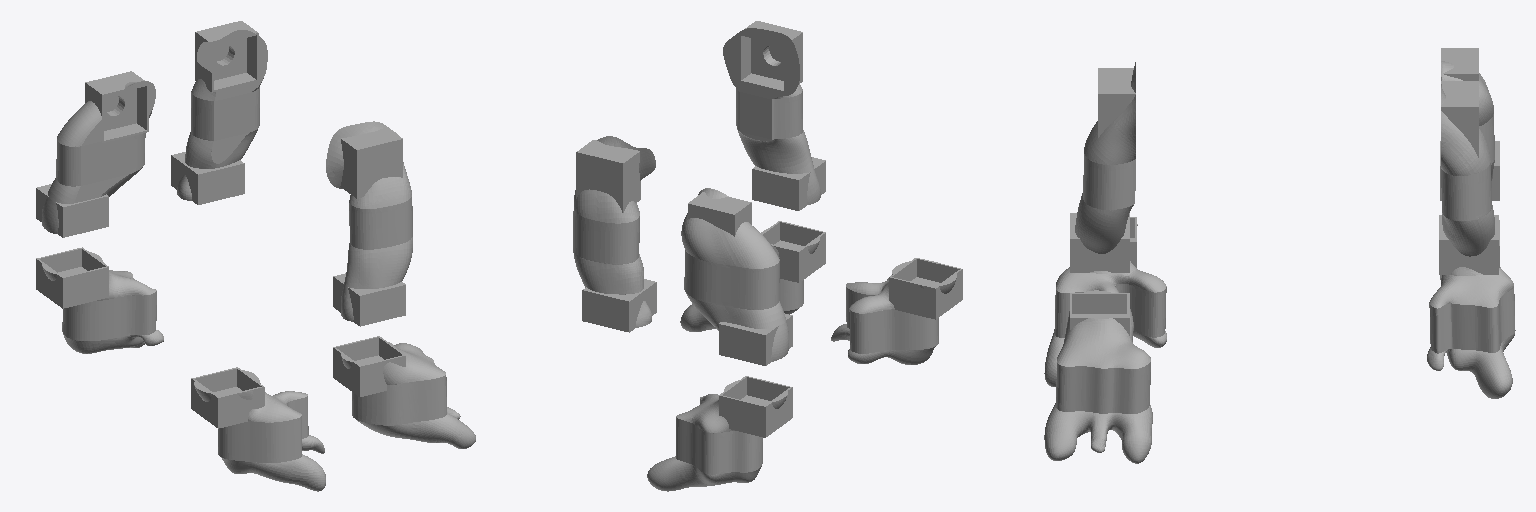
robot.urdf — FrogBot4_top-FrogBot4-z-8_bottom-FrogBot4-z-8:
<?xml version="1.0" ?>
<robot name="FrogBot4_top-FrogBot4-z-8_bottom-FrogBot4-z-8">

<material name="pla_5_percent_infill">
  <color rgba="0.700 0.700 0.700 1.000"/>
</material>

<link name="base_link">
  <inertial>
    <origin xyz="0 0 0" rpy="0 0 0"/>
    <mass value="1.4608203761339813"/>
    <inertia ixx="0.00496034401110324" iyy="0.010259632804669863" izz="0.010457868746855814" ixy="4.519338143051983e-05" iyz="5.808312742508133e-05" ixz="-0.001193761897574285"/>
  </inertial>
  <visual>
    <origin xyz="0 0 0" rpy="0 0 0"/>
    <geometry>
      <mesh filename="simple_meshes/base_link.stl" scale="0.001 0.001 0.001"/>
    </geometry>
    <material name="pla_5_percent_infill"/>
  </visual>
  <collision>
    <origin xyz="0 0 0" rpy="0 0 0"/>
    <geometry>
      <mesh filename="simple_meshes/base_link.stl" scale="0.001 0.001 0.001"/>
    </geometry>
  </collision>
</link>

<link name="body_1_0_1">
  <inertial>
    <origin xyz="-0.039935 -0.102508 -0.020563" rpy="0 0 0"/>
    <mass value="0.09222472070648204"/>
    <inertia ixx="0.00013437797535308322" iyy="0.0001514546771507831" izz="4.015762362987981e-05" ixy="1.046735819692818e-06" iyz="3.205570806482478e-06" ixz="-1.7004805851033827e-05"/>
  </inertial>
  <visual>
    <origin xyz="-0.039935 -0.102508 -0.020563" rpy="0 0 0"/>
    <geometry>
      <mesh filename="simple_meshes/body_1_0_1.stl" scale="0.001 0.001 0.001"/>
    </geometry>
    <material name="pla_5_percent_infill"/>
  </visual>
  <collision>
    <origin xyz="-0.039935 -0.102508 -0.020563" rpy="0 0 0"/>
    <geometry>
      <mesh filename="simple_meshes/body_1_0_1.stl" scale="0.001 0.001 0.001"/>
    </geometry>
  </collision>
</link>

<link name="body_1_1_1">
  <inertial>
    <origin xyz="0.084829 -0.102508 0.010182" rpy="0 0 0"/>
    <mass value="0.10897386600307592"/>
    <inertia ixx="0.0001108126226495405" iyy="0.00016453709370254743" izz="8.127708091953999e-05" ixy="-2.2585087915249612e-06" iyz="1.7464585093023097e-06" ixz="-3.0213331873257354e-05"/>
  </inertial>
  <visual>
    <origin xyz="0.084829 -0.102508 0.010182" rpy="0 0 0"/>
    <geometry>
      <mesh filename="simple_meshes/body_1_1_1.stl" scale="0.001 0.001 0.001"/>
    </geometry>
    <material name="pla_5_percent_infill"/>
  </visual>
  <collision>
    <origin xyz="0.084829 -0.102508 0.010182" rpy="0 0 0"/>
    <geometry>
      <mesh filename="simple_meshes/body_1_1_1.stl" scale="0.001 0.001 0.001"/>
    </geometry>
  </collision>
</link>

<link name="body_1_2_1">
  <inertial>
    <origin xyz="-0.032973 0.102508 -0.03352" rpy="0 0 0"/>
    <mass value="0.09830592588097135"/>
    <inertia ixx="0.00016376439125174438" iyy="0.00017916333632821187" izz="4.332398370064314e-05" ixy="-2.7387617692078937e-06" iyz="-1.4180528586924695e-05" ixz="-1.4380432514463678e-05"/>
  </inertial>
  <visual>
    <origin xyz="-0.032973 0.102508 -0.03352" rpy="0 0 0"/>
    <geometry>
      <mesh filename="simple_meshes/body_1_2_1.stl" scale="0.001 0.001 0.001"/>
    </geometry>
    <material name="pla_5_percent_infill"/>
  </visual>
  <collision>
    <origin xyz="-0.032973 0.102508 -0.03352" rpy="0 0 0"/>
    <geometry>
      <mesh filename="simple_meshes/body_1_2_1.stl" scale="0.001 0.001 0.001"/>
    </geometry>
  </collision>
</link>

<link name="body_1_3_1">
  <inertial>
    <origin xyz="0.075405 0.102508 -0.000907" rpy="0 0 0"/>
    <mass value="0.1153703493044613"/>
    <inertia ixx="0.0001214440313519684" iyy="0.00017627693288045708" izz="8.488718449974108e-05" ixy="9.672855059376234e-08" iyz="-1.8152384502487587e-06" ixz="-2.981738177163434e-05"/>
  </inertial>
  <visual>
    <origin xyz="0.075405 0.102508 -0.000907" rpy="0 0 0"/>
    <geometry>
      <mesh filename="simple_meshes/body_1_3_1.stl" scale="0.001 0.001 0.001"/>
    </geometry>
    <material name="pla_5_percent_infill"/>
  </visual>
  <collision>
    <origin xyz="0.075405 0.102508 -0.000907" rpy="0 0 0"/>
    <geometry>
      <mesh filename="simple_meshes/body_1_3_1.stl" scale="0.001 0.001 0.001"/>
    </geometry>
  </collision>
</link>

<link name="body_2_0_1">
  <inertial>
    <origin xyz="-0.025656 -0.145015 0.125436" rpy="0 0 0"/>
    <mass value="0.12455806429224664"/>
    <inertia ixx="0.00011162442957231289" iyy="0.00013380258809923308" izz="0.00012113228680450975" ixy="-1.8107543383748433e-07" iyz="1.128160045648155e-06" ixz="2.7343863581341188e-05"/>
  </inertial>
  <visual>
    <origin xyz="-0.025656 -0.145015 0.125436" rpy="0 0 0"/>
    <geometry>
      <mesh filename="simple_meshes/body_2_0_1.stl" scale="0.001 0.001 0.001"/>
    </geometry>
    <material name="pla_5_percent_infill"/>
  </visual>
  <collision>
    <origin xyz="-0.025656 -0.145015 0.125436" rpy="0 0 0"/>
    <geometry>
      <mesh filename="simple_meshes/body_2_0_1.stl" scale="0.001 0.001 0.001"/>
    </geometry>
  </collision>
</link>

<link name="body_2_1_1">
  <inertial>
    <origin xyz="0.114857 -0.145661 0.125438" rpy="0 0 0"/>
    <mass value="0.10601789197670694"/>
    <inertia ixx="8.435426068640565e-05" iyy="0.00011976583280184049" izz="8.58747946772113e-05" ixy="-2.881754624832174e-06" iyz="6.42635433037702e-06" ixz="2.792656892598006e-05"/>
  </inertial>
  <visual>
    <origin xyz="0.114857 -0.145661 0.125438" rpy="0 0 0"/>
    <geometry>
      <mesh filename="simple_meshes/body_2_1_1.stl" scale="0.001 0.001 0.001"/>
    </geometry>
    <material name="pla_5_percent_infill"/>
  </visual>
  <collision>
    <origin xyz="0.114857 -0.145661 0.125438" rpy="0 0 0"/>
    <geometry>
      <mesh filename="simple_meshes/body_2_1_1.stl" scale="0.001 0.001 0.001"/>
    </geometry>
  </collision>
</link>

<link name="body_2_2_1">
  <inertial>
    <origin xyz="-0.022601 0.152053 0.125436" rpy="0 0 0"/>
    <mass value="0.13449067238146464"/>
    <inertia ixx="0.00011995097694139818" iyy="0.00014793537286324036" izz="0.0001304464901445237" ixy="-3.890479524919438e-06" iyz="-9.763223322882195e-07" ixz="3.0559322923909065e-05"/>
  </inertial>
  <visual>
    <origin xyz="-0.022601 0.152053 0.125436" rpy="0 0 0"/>
    <geometry>
      <mesh filename="simple_meshes/body_2_2_1.stl" scale="0.001 0.001 0.001"/>
    </geometry>
    <material name="pla_5_percent_infill"/>
  </visual>
  <collision>
    <origin xyz="-0.022601 0.152053 0.125436" rpy="0 0 0"/>
    <geometry>
      <mesh filename="simple_meshes/body_2_2_1.stl" scale="0.001 0.001 0.001"/>
    </geometry>
  </collision>
</link>

<link name="body_2_3_1">
  <inertial>
    <origin xyz="0.12145 0.146005 0.125436" rpy="0 0 0"/>
    <mass value="0.11207993545725627"/>
    <inertia ixx="0.00010280922282573934" iyy="0.00010971184515153661" izz="0.00010398831595938123" ixy="5.82720063077081e-06" iyz="-1.1396212033841328e-05" ixz="1.952218558309328e-05"/>
  </inertial>
  <visual>
    <origin xyz="0.12145 0.146005 0.125436" rpy="0 0 0"/>
    <geometry>
      <mesh filename="simple_meshes/body_2_3_1.stl" scale="0.001 0.001 0.001"/>
    </geometry>
    <material name="pla_5_percent_infill"/>
  </visual>
  <collision>
    <origin xyz="0.12145 0.146005 0.125436" rpy="0 0 0"/>
    <geometry>
      <mesh filename="simple_meshes/body_2_3_1.stl" scale="0.001 0.001 0.001"/>
    </geometry>
  </collision>
</link>

<joint name="joint_1_0" type="revolute">
  <origin xyz="0.039935 0.102508 0.020563" rpy="0 0 0"/>
  <parent link="base_link"/>
  <child link="body_1_0_1"/>
  <axis xyz="0.0 1.0 0.0"/>
  <limit upper="1.2" lower="-1.2" effort="3.8" velocity="5.4"/>
</joint>
<transmission name="joint_1_0_tran">
  <type>transmission_interface/SimpleTransmission</type>
  <joint name="joint_1_0">
    <hardwareInterface>PositionJointInterface</hardwareInterface>
  </joint>
  <actuator name="joint_1_0_actr">
    <hardwareInterface>PositionJointInterface</hardwareInterface>
    <mechanicalReduction>1</mechanicalReduction>
  </actuator>
</transmission>

<joint name="joint_1_1" type="revolute">
  <origin xyz="-0.084829 0.102508 -0.010182" rpy="0 0 0"/>
  <parent link="base_link"/>
  <child link="body_1_1_1"/>
  <axis xyz="0.0 1.0 0.0"/>
  <limit upper="1.2" lower="-1.2" effort="3.8" velocity="5.4"/>
</joint>
<transmission name="joint_1_1_tran">
  <type>transmission_interface/SimpleTransmission</type>
  <joint name="joint_1_1">
    <hardwareInterface>PositionJointInterface</hardwareInterface>
  </joint>
  <actuator name="joint_1_1_actr">
    <hardwareInterface>PositionJointInterface</hardwareInterface>
    <mechanicalReduction>1</mechanicalReduction>
  </actuator>
</transmission>

<joint name="joint_1_2" type="revolute">
  <origin xyz="0.032973 -0.102508 0.03352" rpy="0 0 0"/>
  <parent link="base_link"/>
  <child link="body_1_2_1"/>
  <axis xyz="0.0 1.0 0.0"/>
  <limit upper="1.2" lower="-1.2" effort="3.8" velocity="5.4"/>
</joint>
<transmission name="joint_1_2_tran">
  <type>transmission_interface/SimpleTransmission</type>
  <joint name="joint_1_2">
    <hardwareInterface>PositionJointInterface</hardwareInterface>
  </joint>
  <actuator name="joint_1_2_actr">
    <hardwareInterface>PositionJointInterface</hardwareInterface>
    <mechanicalReduction>1</mechanicalReduction>
  </actuator>
</transmission>

<joint name="joint_1_3" type="revolute">
  <origin xyz="-0.075405 -0.102508 0.000907" rpy="0 0 0"/>
  <parent link="base_link"/>
  <child link="body_1_3_1"/>
  <axis xyz="0.0 1.0 0.0"/>
  <limit upper="1.2" lower="-1.2" effort="3.8" velocity="5.4"/>
</joint>
<transmission name="joint_1_3_tran">
  <type>transmission_interface/SimpleTransmission</type>
  <joint name="joint_1_3">
    <hardwareInterface>PositionJointInterface</hardwareInterface>
  </joint>
  <actuator name="joint_1_3_actr">
    <hardwareInterface>PositionJointInterface</hardwareInterface>
    <mechanicalReduction>1</mechanicalReduction>
  </actuator>
</transmission>

<joint name="joint_2_0" type="revolute">
  <origin xyz="-0.014279 0.042507 -0.145999" rpy="0 0 0"/>
  <parent link="body_1_0_1"/>
  <child link="body_2_0_1"/>
  <axis xyz="0.0 0.0 1.0"/>
  <limit upper="1.2" lower="-1.2" effort="3.8" velocity="5.4"/>
</joint>
<transmission name="joint_2_0_tran">
  <type>transmission_interface/SimpleTransmission</type>
  <joint name="joint_2_0">
    <hardwareInterface>PositionJointInterface</hardwareInterface>
  </joint>
  <actuator name="joint_2_0_actr">
    <hardwareInterface>PositionJointInterface</hardwareInterface>
    <mechanicalReduction>1</mechanicalReduction>
  </actuator>
</transmission>

<joint name="joint_2_1" type="revolute">
  <origin xyz="-0.030028 0.043153 -0.115256" rpy="0 0 0"/>
  <parent link="body_1_1_1"/>
  <child link="body_2_1_1"/>
  <axis xyz="0.0 0.0 1.0"/>
  <limit upper="1.2" lower="-1.2" effort="3.8" velocity="5.4"/>
</joint>
<transmission name="joint_2_1_tran">
  <type>transmission_interface/SimpleTransmission</type>
  <joint name="joint_2_1">
    <hardwareInterface>PositionJointInterface</hardwareInterface>
  </joint>
  <actuator name="joint_2_1_actr">
    <hardwareInterface>PositionJointInterface</hardwareInterface>
    <mechanicalReduction>1</mechanicalReduction>
  </actuator>
</transmission>

<joint name="joint_2_2" type="revolute">
  <origin xyz="-0.010372 -0.049545 -0.158956" rpy="0 0 0"/>
  <parent link="body_1_2_1"/>
  <child link="body_2_2_1"/>
  <axis xyz="0.0 0.0 1.0"/>
  <limit upper="1.2" lower="-1.2" effort="3.8" velocity="5.4"/>
</joint>
<transmission name="joint_2_2_tran">
  <type>transmission_interface/SimpleTransmission</type>
  <joint name="joint_2_2">
    <hardwareInterface>PositionJointInterface</hardwareInterface>
  </joint>
  <actuator name="joint_2_2_actr">
    <hardwareInterface>PositionJointInterface</hardwareInterface>
    <mechanicalReduction>1</mechanicalReduction>
  </actuator>
</transmission>

<joint name="joint_2_3" type="revolute">
  <origin xyz="-0.046045 -0.043497 -0.126343" rpy="0 0 0"/>
  <parent link="body_1_3_1"/>
  <child link="body_2_3_1"/>
  <axis xyz="0.0 0.0 1.0"/>
  <limit upper="1.2" lower="-1.2" effort="3.8" velocity="5.4"/>
</joint>
<transmission name="joint_2_3_tran">
  <type>transmission_interface/SimpleTransmission</type>
  <joint name="joint_2_3">
    <hardwareInterface>PositionJointInterface</hardwareInterface>
  </joint>
  <actuator name="joint_2_3_actr">
    <hardwareInterface>PositionJointInterface</hardwareInterface>
    <mechanicalReduction>1</mechanicalReduction>
  </actuator>
</transmission>

</robot>

--- Render facts (derived) ---
The picture shows the robot from 3 angles, left to right: view 1: azimuth 30°, elevation 25°; view 2: azimuth 150°, elevation 25°; view 3: azimuth 270°, elevation 25°; orthographic projection.
Model FrogBot4_top-FrogBot4-z-8_bottom-FrogBot4-z-8 with 9 links and 8 joints (8 revolute), rooted at base_link, posed all joints at 0.
Visible links, largest first — view 1: body_1_2_1, body_1_1_1, body_1_0_1, body_2_3_1, body_2_2_1, body_2_1_1; view 2: body_1_1_1, body_1_0_1, body_1_2_1, body_2_1_1, body_2_3_1, body_2_2_1; view 3: body_2_2_1, body_1_2_1, body_1_0_1, body_2_1_1, body_2_3_1, body_1_1_1.
Link boxes in pixels (x1,y1,x2,y2): body_1_2_1: (326,121,412,326); body_1_1_1: (36,71,155,237); body_1_0_1: (171,21,267,204); body_2_3_1: (191,367,325,491); body_2_2_1: (333,336,475,448); body_2_1_1: (36,247,163,353); body_1_1_1: (681,188,792,365); body_1_0_1: (573,136,656,332); body_1_2_1: (723,21,825,210); body_2_1_1: (647,376,792,491); body_2_3_1: (831,258,962,364); body_2_2_1: (680,221,825,331); body_2_2_1: (1044,290,1152,463); body_1_2_1: (1070,62,1135,273); body_1_0_1: (1439,77,1498,275); body_2_1_1: (1427,220,1515,398); body_2_3_1: (1044,217,1166,386); body_1_1_1: (1440,48,1499,200).
Size in the robot's own frame: 0.2681 by 0.379 by 0.3226 metres.
Meshes: 9 distinct files referenced, 6 mesh visuals loaded (6 binary STL); not drawn: 3 (reference not matched to a file when rendering).